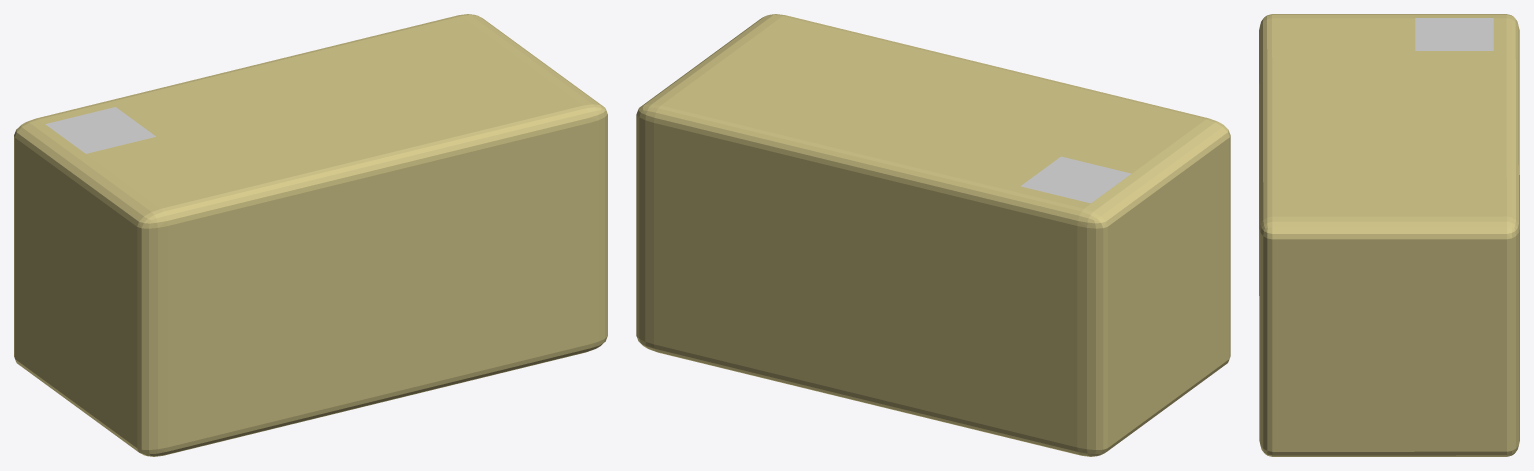
Rendered from Message.dae.
3 views of the same model, side by side, from view 1: azimuth 30°, elevation 25°; view 2: azimuth 150°, elevation 25°; view 3: azimuth 270°, elevation 25° (orthographic). The views are drawn at different scales.
Parts seen in each view (by area): view 1: Cube, Plane; view 2: Cube, Plane; view 3: Cube, Plane.
Boxes of the visible parts, <box> form: Cube: <box>14,14,607,456</box>; Plane: <box>45,107,155,153</box>; Cube: <box>636,14,1230,456</box>; Plane: <box>1021,156,1130,203</box>; Cube: <box>1259,14,1519,456</box>; Plane: <box>1415,18,1493,50</box>.
Bounding box in the file's own units: 2 × 1 × 1.
